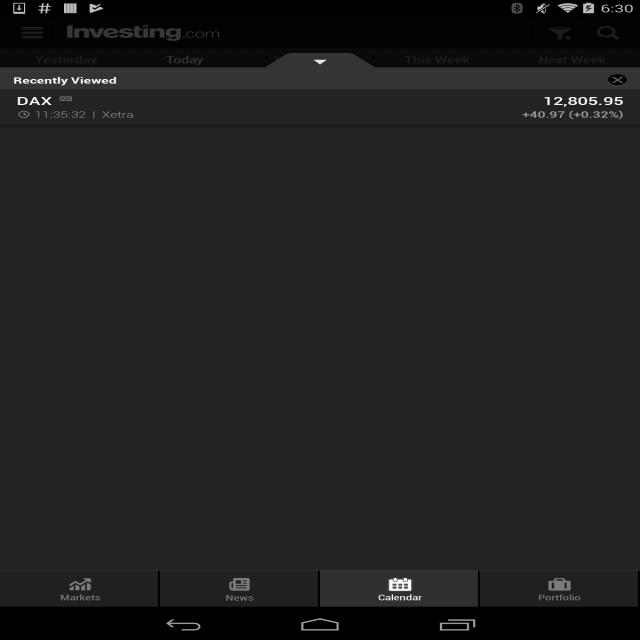ImageView: (67, 17, 219, 48), (8, 17, 56, 48), (536, 17, 584, 48), (584, 17, 632, 48), (601, 48, 640, 71), (0, 48, 38, 71), (50, 84, 101, 95), (50, 114, 101, 125), (50, 143, 101, 154), (50, 177, 101, 188), (50, 210, 101, 221), (50, 275, 101, 286), (50, 308, 101, 319), (50, 373, 101, 384), (50, 406, 101, 417), (50, 471, 101, 482), (50, 505, 101, 516), (50, 534, 101, 545), (50, 243, 101, 253), (50, 341, 101, 351), (50, 439, 101, 449), (50, 567, 101, 577), (313, 60, 327, 65), (26, 87, 37, 93), (26, 117, 37, 123), (12, 146, 23, 152), (39, 146, 50, 152), (12, 180, 23, 186), (39, 180, 50, 186), (12, 212, 23, 218), (39, 212, 50, 218), (12, 245, 23, 251), (39, 245, 50, 251), (100, 224, 102, 257), (12, 278, 23, 284), (39, 278, 50, 284), (12, 310, 23, 316), (39, 310, 50, 316), (12, 343, 23, 349), (39, 343, 50, 349), (100, 322, 102, 355), (12, 376, 23, 382), (39, 376, 50, 382), (12, 408, 23, 414), (39, 408, 50, 414), (12, 441, 23, 447), (39, 441, 50, 447), (100, 420, 102, 453), (26, 508, 37, 514), (12, 536, 23, 542), (39, 536, 50, 542), (12, 569, 23, 575), (39, 569, 50, 575), (100, 548, 102, 581), (100, 125, 102, 157), (100, 159, 102, 191), (100, 192, 102, 224), (100, 257, 102, 289), (100, 290, 102, 322), (100, 355, 102, 387), (100, 388, 102, 420), (100, 453, 102, 485), (100, 516, 102, 548), (13, 87, 23, 93), (40, 87, 50, 93), (13, 117, 23, 123), (40, 117, 50, 123), (26, 146, 36, 152), (26, 180, 36, 186), (26, 212, 36, 218), (26, 245, 36, 251), (26, 278, 36, 284), (26, 310, 36, 316), (26, 343, 36, 349), (26, 376, 36, 382), (26, 408, 36, 414), (26, 441, 36, 447), (13, 508, 23, 514), (40, 508, 50, 514), (26, 536, 36, 542), (26, 569, 36, 575), (12, 474, 23, 479), (39, 474, 50, 479), (26, 474, 36, 479), (100, 488, 102, 513), (100, 68, 102, 92), (100, 98, 102, 122), (56, 17, 56, 48), (536, 17, 536, 48), (584, 17, 584, 48)
TextView: (504, 48, 640, 75), (370, 48, 504, 75), (238, 48, 370, 75), (0, 48, 131, 75), (113, 328, 385, 341), (131, 48, 238, 75), (113, 426, 321, 439), (113, 554, 320, 567), (113, 74, 323, 86), (113, 393, 293, 406), (113, 521, 291, 534), (113, 263, 302, 275), (113, 230, 285, 243), (113, 131, 290, 143), (113, 361, 279, 373), (113, 144, 312, 154), (113, 459, 274, 471), (113, 295, 261, 308), (113, 472, 281, 482), (113, 406, 278, 416), (113, 178, 268, 188), (113, 210, 268, 220), (113, 242, 268, 252), (113, 534, 268, 544), (113, 308, 260, 318), (113, 566, 256, 576), (113, 340, 255, 350), (113, 438, 254, 448), (113, 104, 226, 116), (113, 197, 217, 210), (113, 276, 243, 286), (113, 374, 243, 384), (113, 165, 219, 177), (378, 576, 422, 602), (538, 576, 581, 602), (113, 494, 196, 507), (60, 576, 100, 602), (225, 576, 254, 603), (50, 69, 101, 82), (50, 99, 101, 112), (50, 197, 101, 210), (50, 230, 101, 243), (50, 295, 101, 308), (50, 328, 101, 341), (50, 393, 101, 406), (50, 426, 101, 439), (50, 521, 101, 534), (50, 554, 101, 567), (50, 131, 101, 143), (50, 165, 101, 177), (50, 263, 101, 275), (50, 361, 101, 373), (50, 459, 101, 471), (50, 490, 101, 502), (12, 197, 50, 210), (12, 230, 50, 243), (12, 295, 50, 308), (12, 328, 50, 341), (12, 393, 50, 406), (12, 426, 50, 439), (12, 521, 50, 534), (12, 554, 50, 567), (13, 69, 50, 82), (13, 99, 50, 112), (12, 131, 50, 143), (12, 165, 50, 177), (12, 263, 50, 275), (12, 361, 50, 373), (12, 459, 50, 471), (13, 490, 50, 502)
